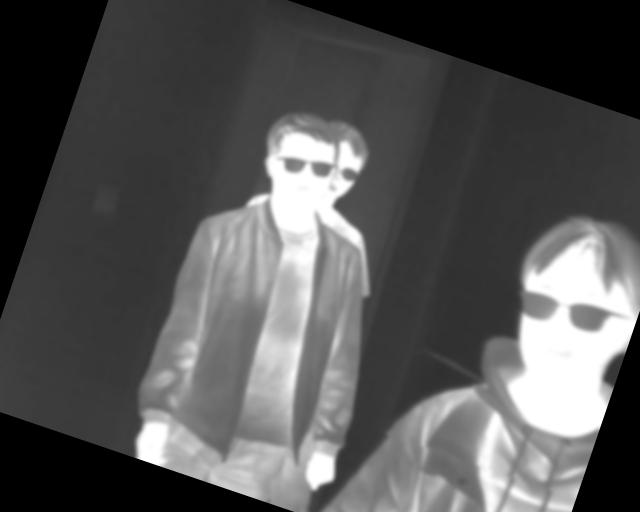face: (490, 196, 640, 401), (245, 100, 350, 225)
